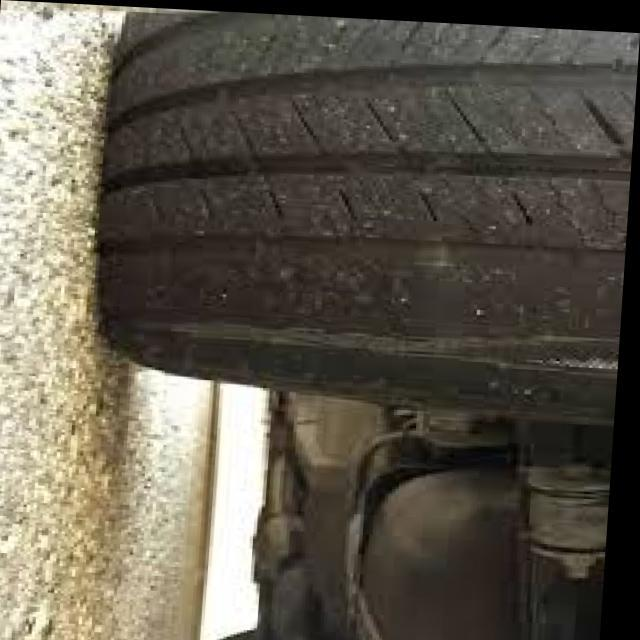Flat spots: (90, 241, 623, 329)
